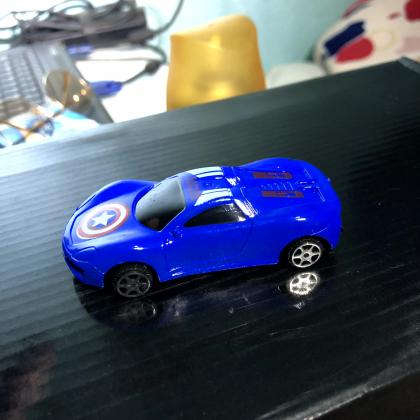Car: (61, 158, 342, 301)
